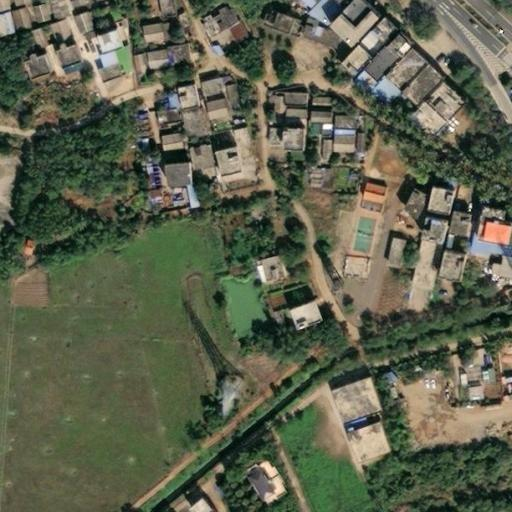building: (352, 22, 403, 78), (324, 370, 374, 417), (239, 451, 279, 500), (423, 76, 466, 120), (393, 56, 436, 100), (378, 41, 419, 84), (341, 411, 382, 453), (402, 237, 433, 291), (332, 13, 381, 47), (206, 370, 241, 416), (190, 3, 232, 40), (466, 205, 510, 239), (350, 210, 379, 255), (404, 94, 439, 129), (324, 44, 356, 76), (285, 300, 318, 329), (256, 10, 291, 35), (200, 29, 230, 58), (173, 104, 200, 136), (363, 75, 392, 104), (344, 1, 372, 30), (393, 187, 420, 217), (210, 143, 237, 173), (84, 33, 110, 64), (428, 251, 456, 279), (340, 250, 368, 276), (296, 27, 330, 48), (181, 490, 212, 512), (449, 368, 480, 390), (182, 139, 207, 166), (156, 156, 183, 181), (420, 182, 445, 208), (378, 235, 398, 267), (48, 43, 73, 68), (480, 254, 507, 277), (152, 131, 176, 155), (42, 18, 66, 42), (219, 20, 242, 45), (253, 252, 276, 277), (261, 285, 286, 308), (170, 77, 192, 103), (65, 10, 88, 34), (18, 58, 42, 81), (354, 181, 378, 204), (460, 235, 484, 258), (276, 124, 299, 148), (107, 46, 126, 74), (2, 7, 23, 32), (89, 63, 114, 84), (198, 101, 220, 124), (138, 49, 162, 70), (440, 212, 461, 235), (417, 216, 438, 238), (482, 239, 509, 256), (42, 0, 64, 20), (101, 28, 121, 50), (191, 77, 212, 97), (133, 24, 154, 44), (22, 2, 42, 23), (177, 179, 191, 208), (327, 114, 346, 135), (124, 54, 141, 77), (24, 27, 40, 51), (151, 0, 170, 20), (312, 136, 325, 164), (266, 91, 277, 123), (146, 109, 168, 125), (136, 163, 149, 190), (471, 196, 496, 210), (326, 134, 346, 151), (226, 125, 242, 146), (302, 106, 324, 121), (323, 153, 350, 165), (276, 103, 299, 117), (218, 84, 232, 106), (159, 45, 173, 67), (143, 161, 154, 188), (277, 91, 299, 104), (132, 139, 143, 164), (302, 169, 315, 188), (347, 67, 363, 82), (139, 138, 149, 162), (459, 386, 474, 402), (303, 96, 324, 107), (261, 127, 275, 143), (339, 410, 359, 421), (348, 130, 357, 152), (439, 388, 450, 406), (159, 93, 172, 108), (16, 238, 27, 255), (249, 262, 258, 282), (503, 259, 512, 278), (358, 73, 371, 86), (62, 0, 79, 9), (130, 119, 141, 132), (314, 126, 327, 136), (355, 79, 366, 90), (141, 188, 153, 198), (133, 194, 144, 203), (82, 95, 91, 106), (5, 0, 23, 5), (341, 171, 350, 181), (143, 197, 149, 208), (391, 93, 399, 101), (314, 120, 323, 126)
